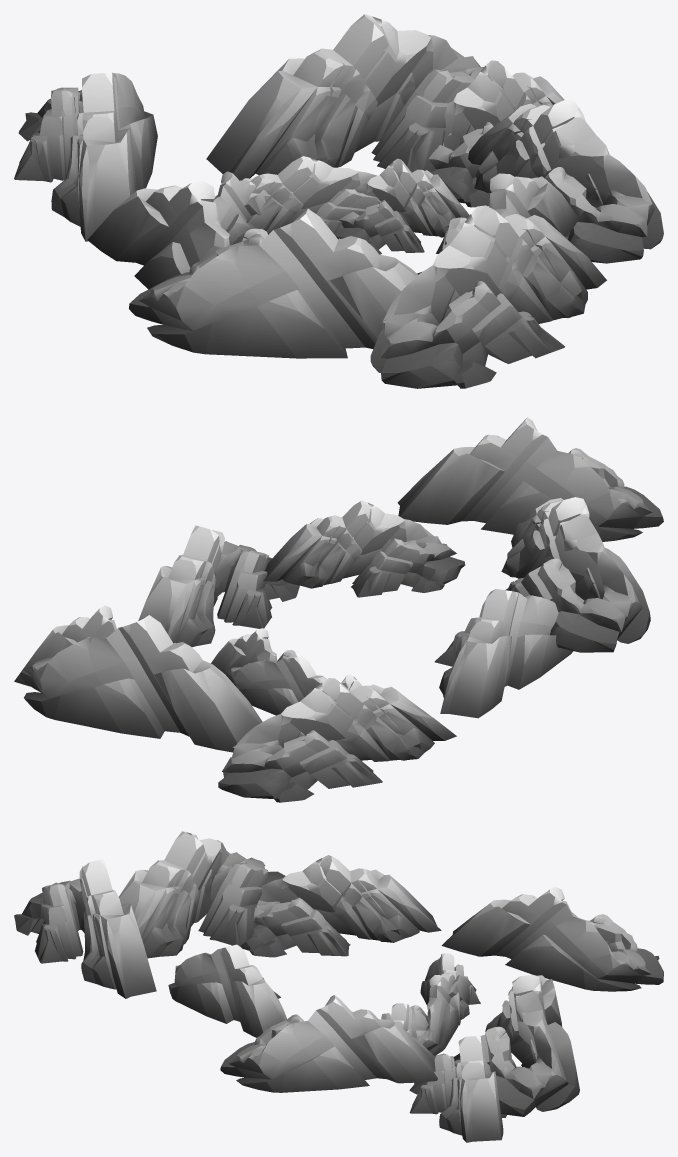
3 renders of one model, top to bottom at view 1: azimuth 30°, elevation 25°; view 2: azimuth 150°, elevation 25°; view 3: azimuth 270°, elevation 25°, orthographic. The views are drawn at different scales.
Visible parts, largest first — view 1: DistantBackgroundMountains, DistantBackgroundMountains (5), DistantBackgroundMountains (2), DistantBackgroundMountains (7), DistantBackgroundMountains (3), DistantBackgroundMountains (1), DistantBackgroundMountains (4), DistantBackgroundMountains (8), DistantBackgroundMountains (9), DistantBackgroundMountains (6), DistantBackgroundMountains (10); view 2: DistantBackgroundMountains (5), DistantBackgroundMountains (3), DistantBackgroundMountains (2), DistantBackgroundMountains, DistantBackgroundMountains (6), DistantBackgroundMountains (7), DistantBackgroundMountains (1), DistantBackgroundMountains (9), DistantBackgroundMountains (4), DistantBackgroundMountains (8); view 3: DistantBackgroundMountains (7), DistantBackgroundMountains (3), DistantBackgroundMountains (1), DistantBackgroundMountains, DistantBackgroundMountains (2), DistantBackgroundMountains (5), DistantBackgroundMountains (6), DistantBackgroundMountains (4), DistantBackgroundMountains (9), DistantBackgroundMountains (10), DistantBackgroundMountains (8).
Boxes of the visible parts, x1,y1,x2,y2 form: DistantBackgroundMountains: [129, 209, 417, 358]; DistantBackgroundMountains (5): [206, 14, 483, 180]; DistantBackgroundMountains (2): [370, 205, 606, 388]; DistantBackgroundMountains (7): [468, 100, 663, 263]; DistantBackgroundMountains (3): [14, 72, 157, 241]; DistantBackgroundMountains (1): [87, 181, 267, 289]; DistantBackgroundMountains (4): [428, 60, 564, 207]; DistantBackgroundMountains (8): [334, 158, 469, 254]; DistantBackgroundMountains (9): [215, 156, 410, 234]; DistantBackgroundMountains (6): [417, 173, 578, 274]; DistantBackgroundMountains (10): [213, 171, 268, 245]; DistantBackgroundMountains (5): [21, 615, 262, 752]; DistantBackgroundMountains (3): [218, 678, 456, 802]; DistantBackgroundMountains (2): [397, 417, 663, 541]; DistantBackgroundMountains: [501, 497, 650, 652]; DistantBackgroundMountains (6): [263, 500, 465, 597]; DistantBackgroundMountains (7): [138, 525, 299, 647]; DistantBackgroundMountains (1): [434, 589, 573, 718]; DistantBackgroundMountains (9): [226, 656, 326, 715]; DistantBackgroundMountains (4): [14, 605, 116, 686]; DistantBackgroundMountains (8): [211, 628, 297, 686]; DistantBackgroundMountains (7): [220, 995, 437, 1092]; DistantBackgroundMountains (3): [441, 886, 663, 991]; DistantBackgroundMountains (1): [231, 855, 441, 957]; DistantBackgroundMountains: [119, 831, 285, 958]; DistantBackgroundMountains (2): [14, 859, 156, 998]; DistantBackgroundMountains (5): [453, 974, 579, 1116]; DistantBackgroundMountains (6): [168, 944, 286, 1037]; DistantBackgroundMountains (4): [409, 1036, 506, 1142]; DistantBackgroundMountains (9): [410, 971, 476, 1055]; DistantBackgroundMountains (10): [420, 953, 480, 1025]; DistantBackgroundMountains (8): [381, 1003, 428, 1037].
Bounding box in the file's own units: 921 × 304 × 1172.
1 material, 1 textured.
